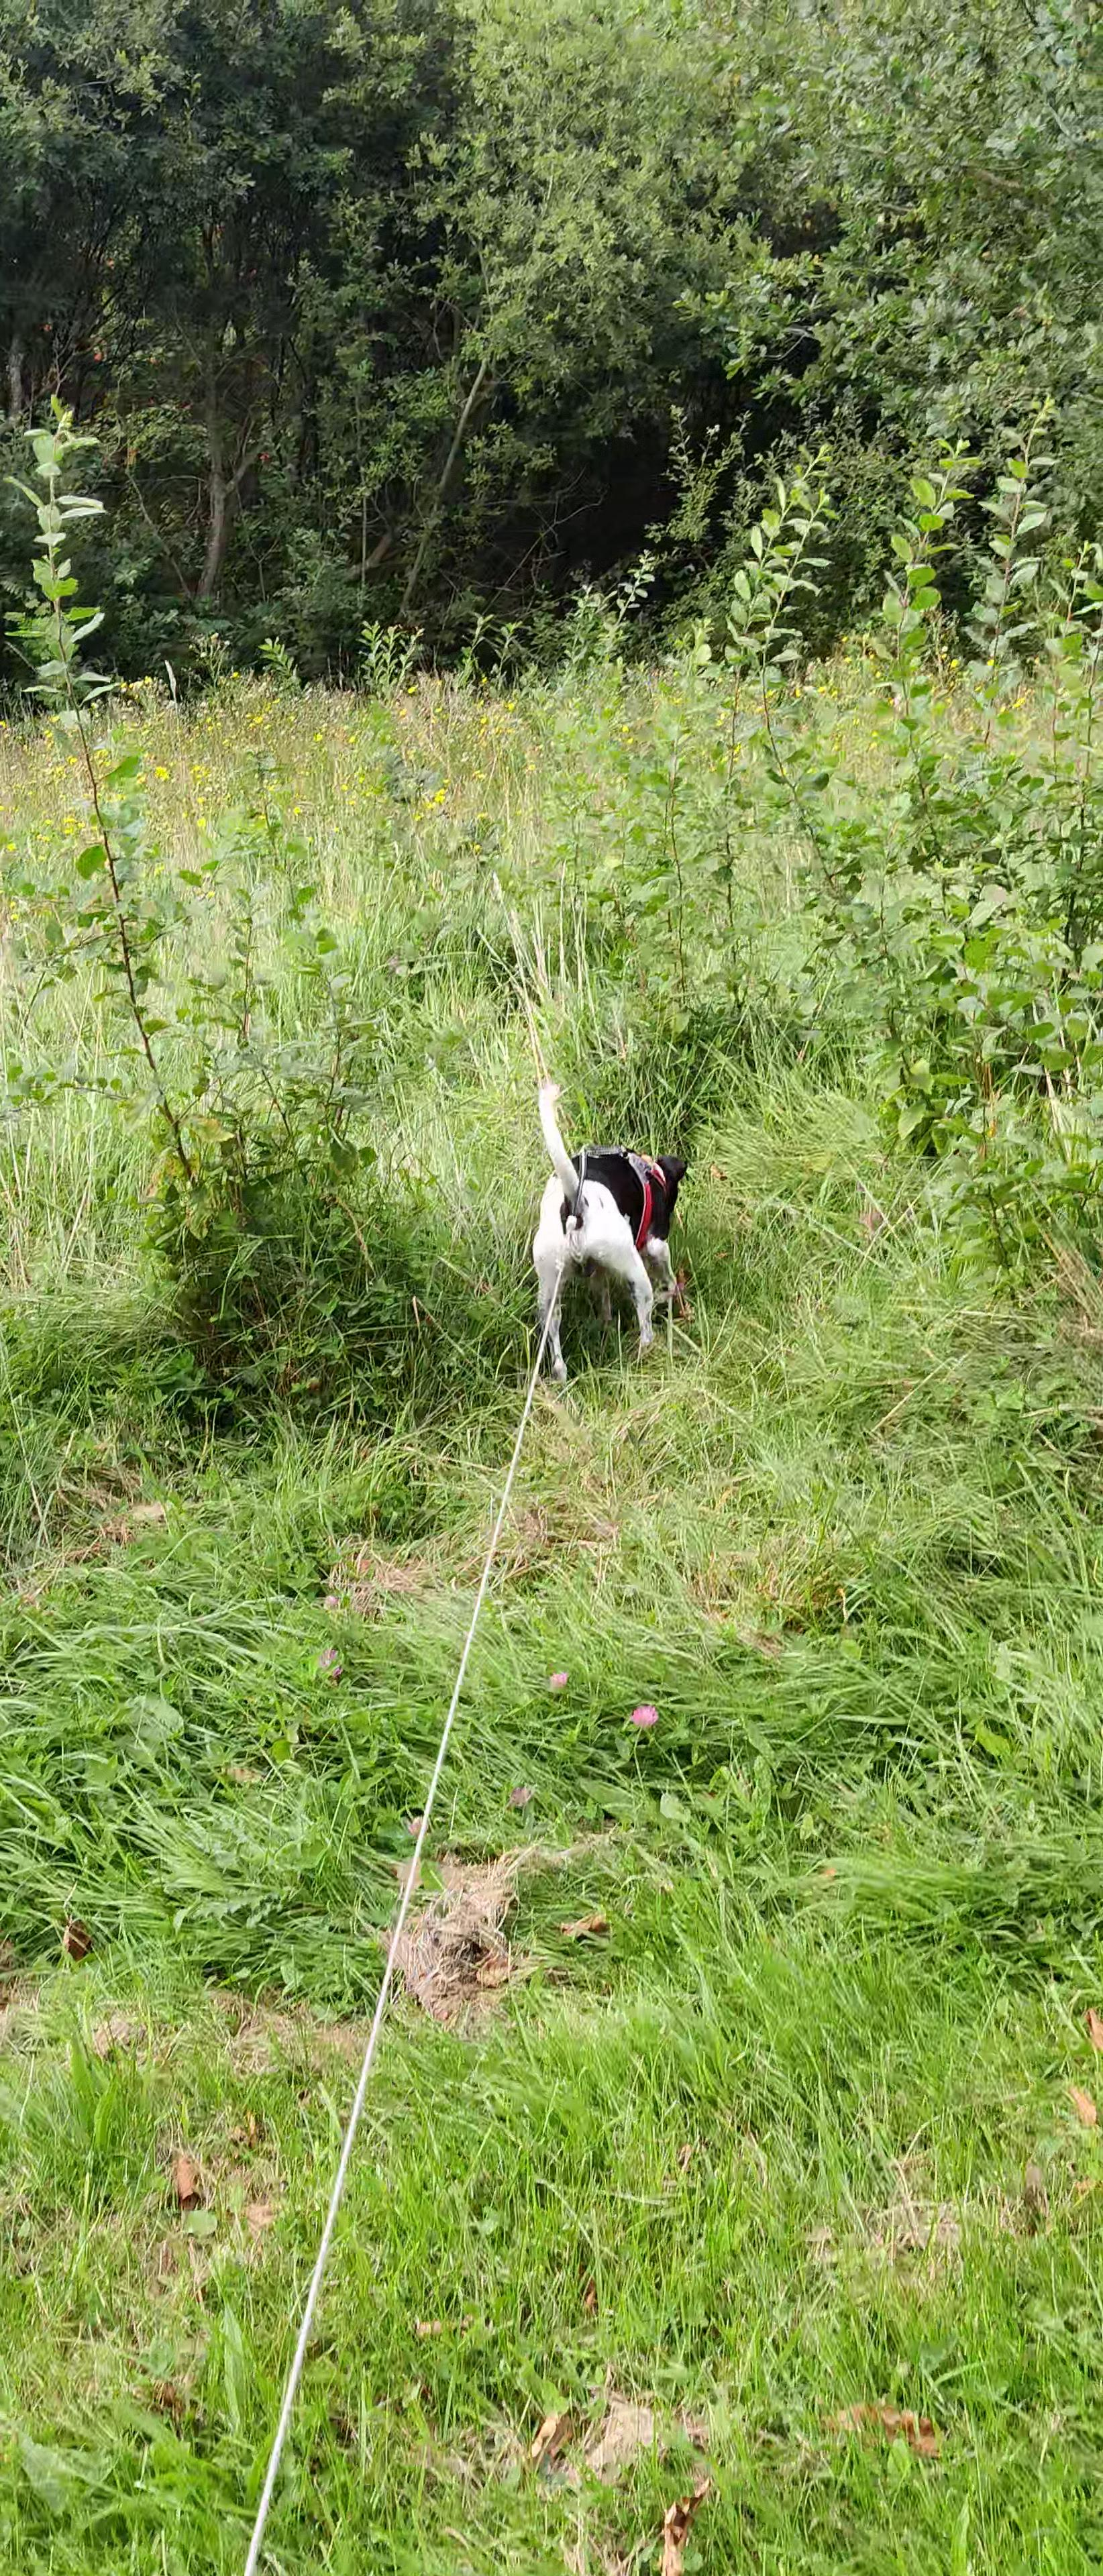Dog: (518, 1065, 697, 1390)
